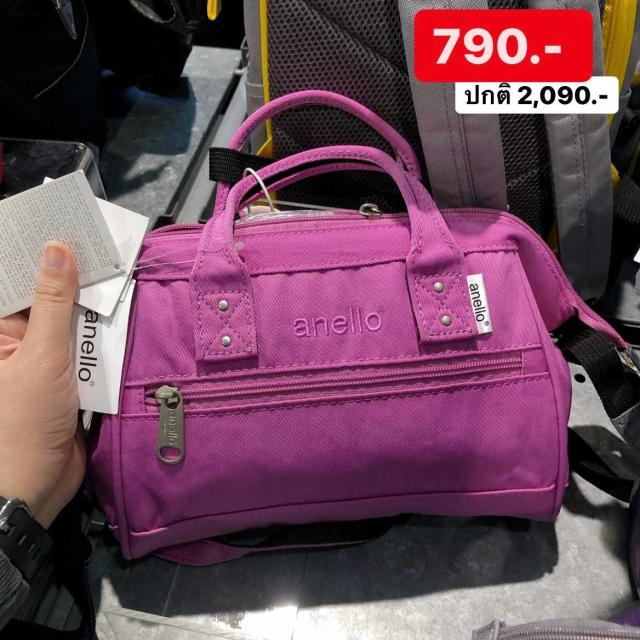Handbag: (82, 83, 629, 555)
